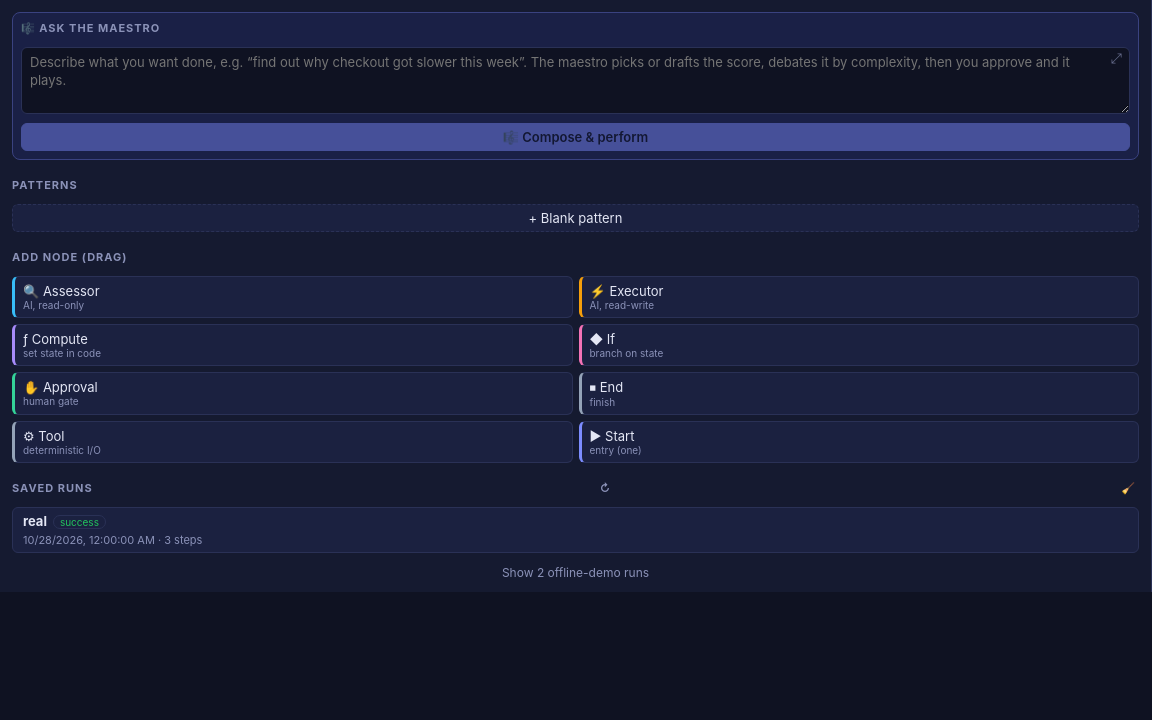
Test: Library saved runs › hides offline-demo runs until asked
The width and height of the screenshot is (1152, 720).
Expected: the text "real" is shown, top-left (23, 513), bottom-right (47, 529)
Expected: the text "demo1" is not shown
Click the button "Show 2 offline-demo runs" at (576, 572), box top-left (12, 565), bottom-right (1139, 580)
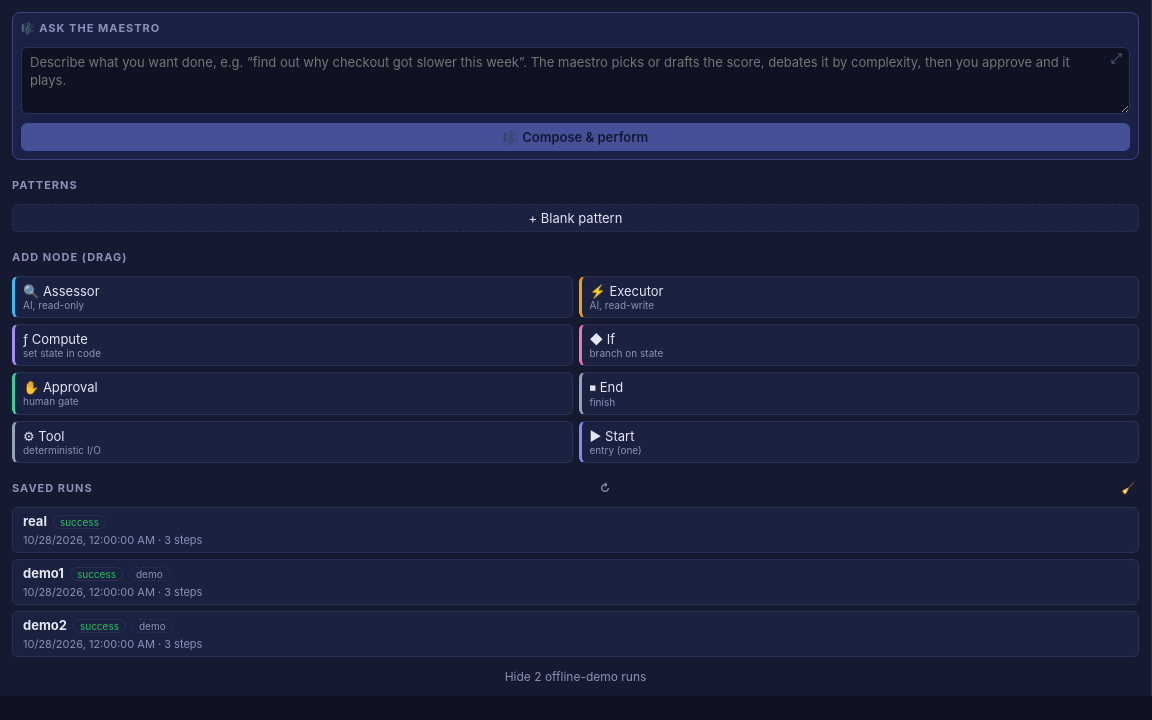
Expected: the text "demo1" is shown, top-left (23, 565), bottom-right (64, 581)
Expected: the text "demo" is shown 2 times, top-left (129, 567), bottom-right (170, 581); top-left (132, 619), bottom-right (173, 633)
Click the button "Hide 2 offline-demo runs" at (576, 676), box top-left (12, 669), bottom-right (1139, 684)
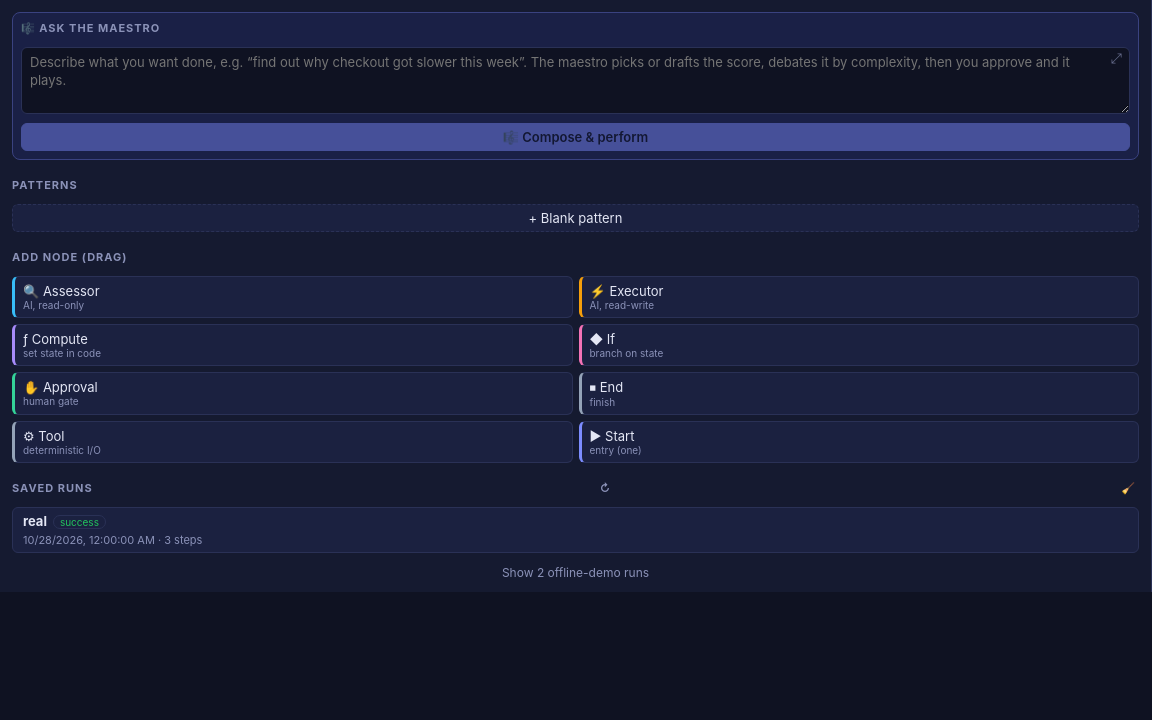
Expected: the button "demo2" is gone
